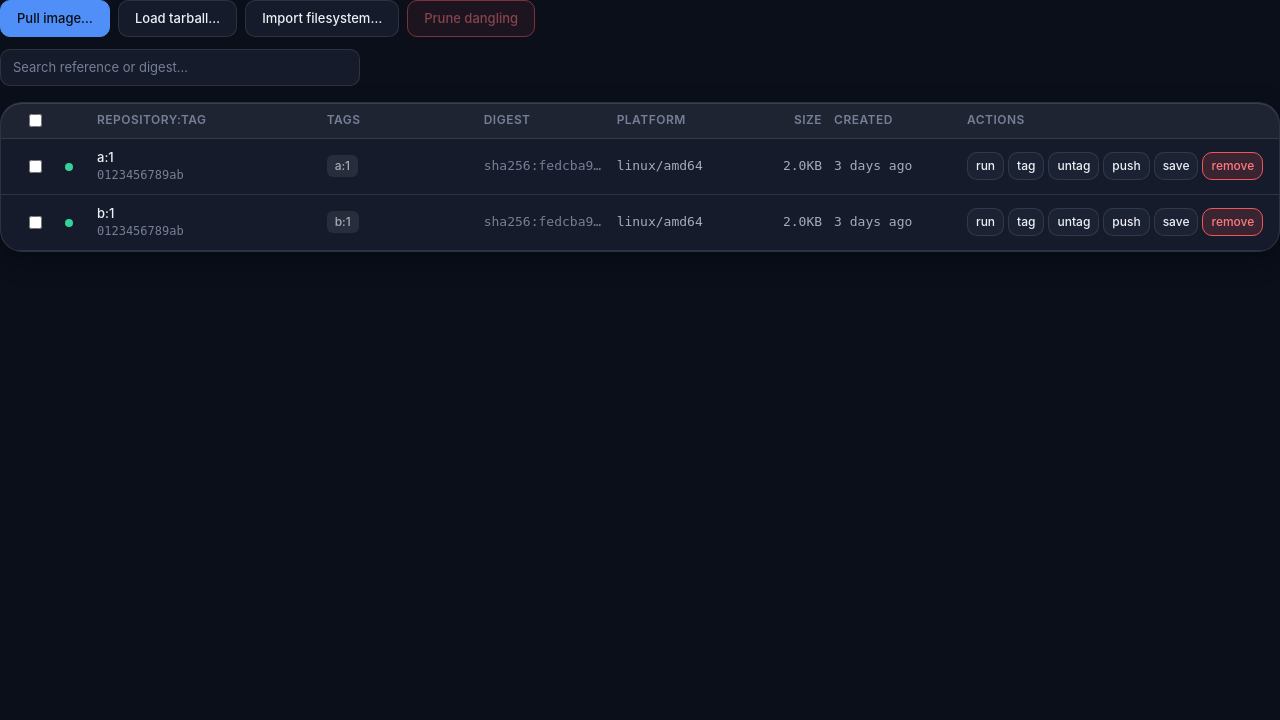
Test: ImagesScreen — compare filesystems (plan-docker_management_app/REQ-63) › enables "Compare filesystems…" with exactly two images selected, opening the diff view pre-picked with both and clearing the selection
This screenshot has width=1280, height=720.
Click the 1st checkbox named "Select row": (36, 166) top-left (29, 160), bottom-right (42, 173)
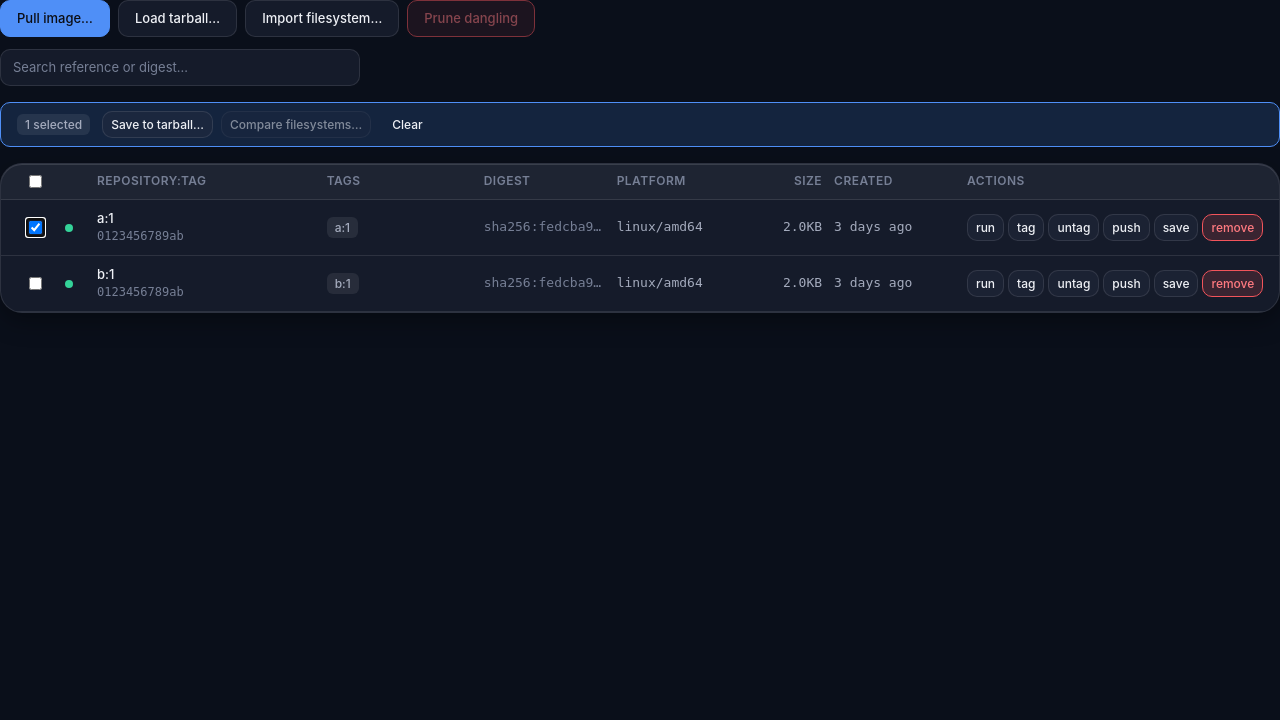
Click the 2nd checkbox named "Select row": (36, 284) top-left (29, 277), bottom-right (42, 290)
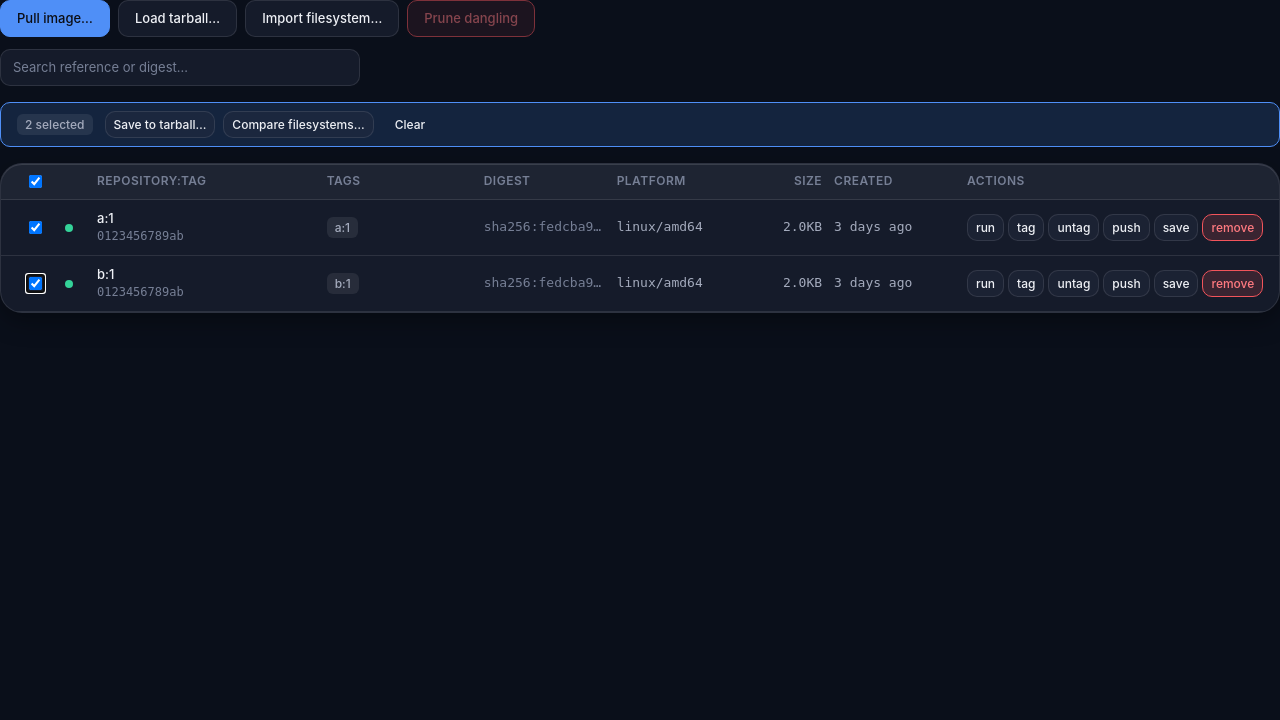
Result: the button "Compare filesystems…" is enabled
Click the button "Compare filesystems…": (299, 124) top-left (223, 111), bottom-right (374, 138)
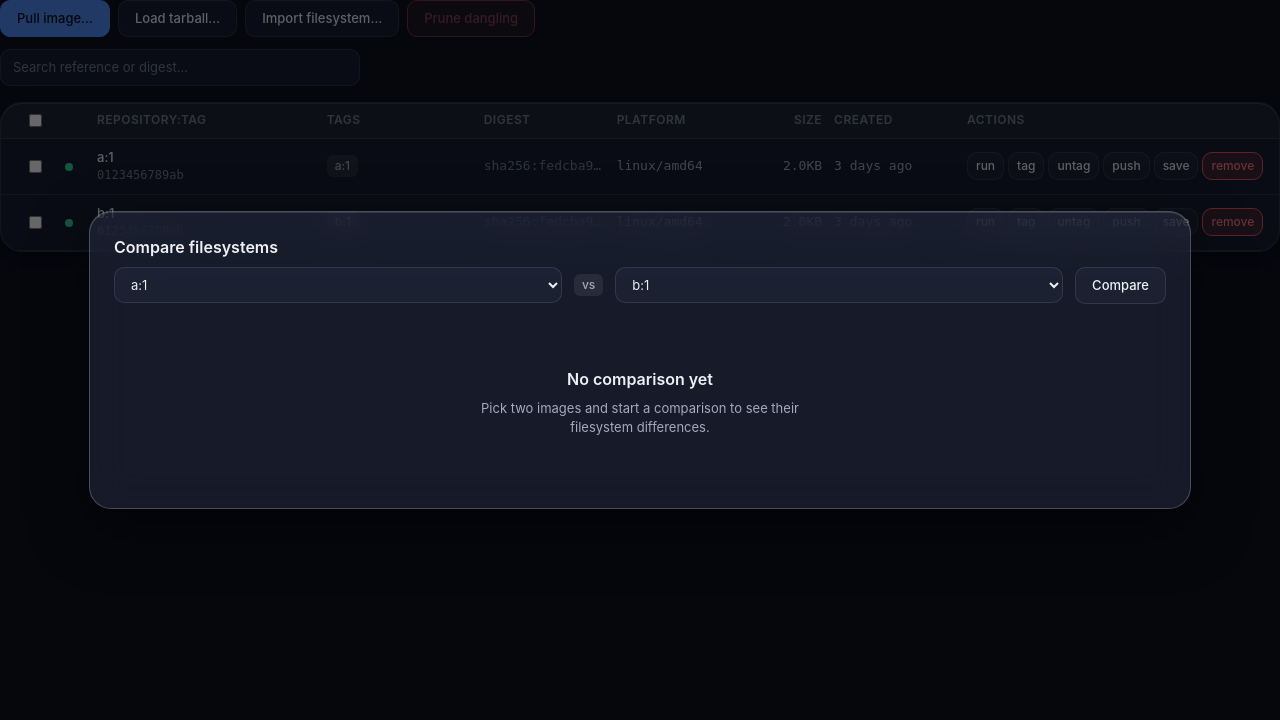
Result: the heading "Compare filesystems" is shown at top-left (114, 236), bottom-right (278, 256)
Result: the dropdown named "First image" shows "a:1" at top-left (114, 267), bottom-right (562, 303)
Result: the dropdown named "Second image" shows "b:1" at top-left (615, 267), bottom-right (1063, 303)
